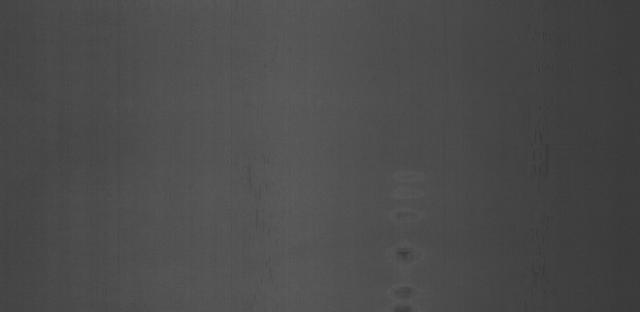water_spot: (386, 162, 433, 306)
